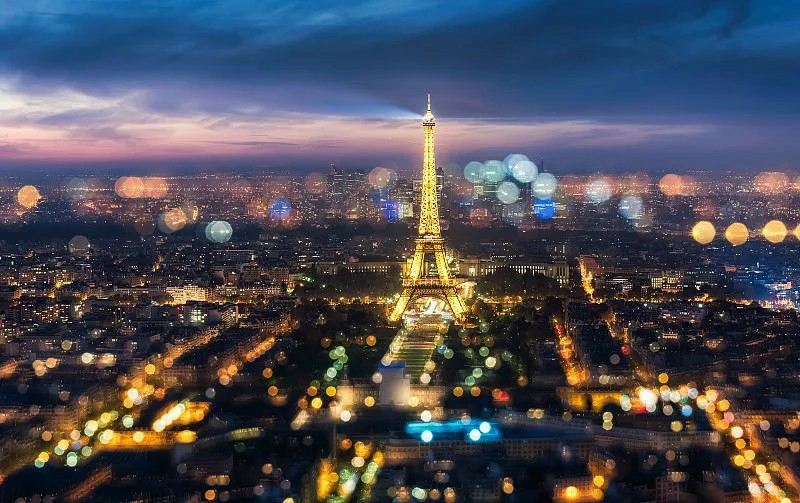Eiffel: (388, 93, 468, 323)
